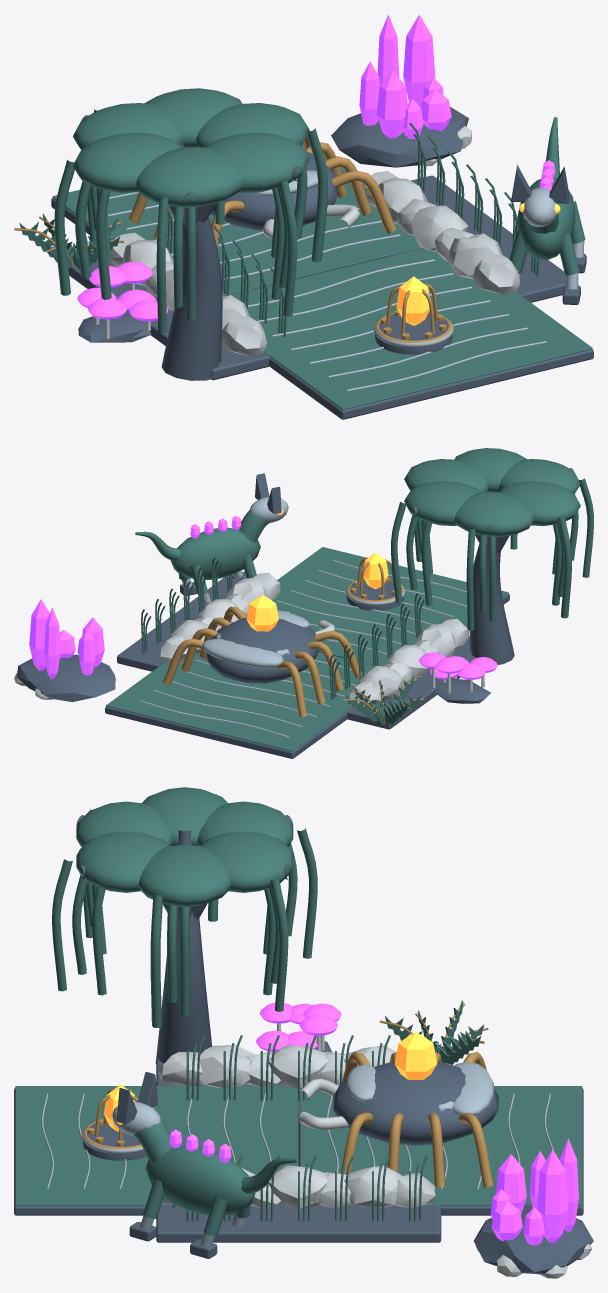
The model's file is moonsteel-convergence-river-jungle-encounter-13f37ede__18225.glb.
3 renders of one model, top to bottom at view 1: azimuth 30°, elevation 25°; view 2: azimuth 150°, elevation 25°; view 3: azimuth 270°, elevation 25°, orthographic. The views are drawn at different scales.
Parts seen in each view (by area): view 1: 006-weeping-jadewood/1, 001-jade-river-surface/1, 000-jade-river-surface/1, 007-amethyst-outcrop/1, 003-reed-riverbank/1, 006-weeping-jadewood/0, 007-amethyst-outcrop/0, 002-reed-riverbank/1, 005-jade-prowler/0, 001-jade-river-surface/0, 003-reed-riverbank/0, 001-jade-river-surface/2 (+15 smaller); view 2: 006-weeping-jadewood/1, 000-jade-river-surface/1, 001-jade-river-surface/1, 005-jade-prowler/0, 004-gilded-river-crab/0, 002-reed-riverbank/1, 004-gilded-river-crab/2, 007-amethyst-outcrop/1, 006-weeping-jadewood/0, 007-amethyst-outcrop/0, 003-reed-riverbank/1, 003-reed-riverbank/0 (+17 smaller); view 3: 006-weeping-jadewood/1, 001-jade-river-surface/1, 000-jade-river-surface/1, 003-reed-riverbank/0, 005-jade-prowler/0, 004-gilded-river-crab/0, 007-amethyst-outcrop/1, 002-reed-riverbank/1, 003-reed-riverbank/1, 006-weeping-jadewood/0, 004-gilded-river-crab/2, 007-amethyst-outcrop/0 (+17 smaller).
Boxes of the visible parts, left/top/right/bottom form: 006-weeping-jadewood/1: left=54, top=88, right=327, bottom=333; 001-jade-river-surface/1: left=231, top=248, right=592, bottom=409; 000-jade-river-surface/1: left=52, top=143, right=420, bottom=295; 007-amethyst-outcrop/1: left=359, top=14, right=451, bottom=138; 003-reed-riverbank/1: left=362, top=171, right=519, bottom=294; 006-weeping-jadewood/0: left=82, top=115, right=298, bottom=380; 007-amethyst-outcrop/0: left=331, top=106, right=468, bottom=167; 002-reed-riverbank/1: left=109, top=232, right=266, bottom=355; 005-jade-prowler/0: left=509, top=117, right=585, bottom=275; 001-jade-river-surface/0: left=269, top=349, right=593, bottom=419; 003-reed-riverbank/0: left=391, top=175, right=565, bottom=302; 001-jade-river-surface/2: left=248, top=259, right=546, bottom=391; 006-weeping-jadewood/1: left=391, top=448, right=593, bottom=630; 000-jade-river-surface/1: left=106, top=652, right=373, bottom=751; 001-jade-river-surface/1: left=271, top=547, right=508, bottom=666; 005-jade-prowler/0: left=135, top=510, right=269, bottom=594; 004-gilded-river-crab/0: left=206, top=617, right=319, bottom=683; 002-reed-riverbank/1: left=349, top=618, right=468, bottom=711; 004-gilded-river-crab/2: left=163, top=606, right=362, bottom=717; 007-amethyst-outcrop/1: left=29, top=599, right=104, bottom=679; 006-weeping-jadewood/0: left=412, top=468, right=573, bottom=664; 007-amethyst-outcrop/0: left=16, top=654, right=115, bottom=702; 003-reed-riverbank/1: left=160, top=572, right=280, bottom=664; 003-reed-riverbank/0: left=117, top=577, right=240, bottom=671; 006-weeping-jadewood/1: left=52, top=787, right=317, bottom=1027; 001-jade-river-surface/1: left=15, top=1086, right=297, bottom=1205; 000-jade-river-surface/1: left=300, top=1086, right=582, bottom=1205; 003-reed-riverbank/0: left=156, top=1205, right=441, bottom=1242; 005-jade-prowler/0: left=133, top=1120, right=296, bottom=1236; 004-gilded-river-crab/0: left=333, top=1062, right=498, bottom=1145; 007-amethyst-outcrop/1: left=490, top=1138, right=578, bottom=1245; 002-reed-riverbank/1: left=157, top=1045, right=396, bottom=1088; 003-reed-riverbank/1: left=162, top=1165, right=435, bottom=1209; 006-weeping-jadewood/0: left=76, top=815, right=293, bottom=1063; 004-gilded-river-crab/2: left=341, top=1052, right=493, bottom=1187; 007-amethyst-outcrop/0: left=474, top=1206, right=593, bottom=1274.
Bounding box in the file's own units: 9.13 × 3.7 × 8.15.
